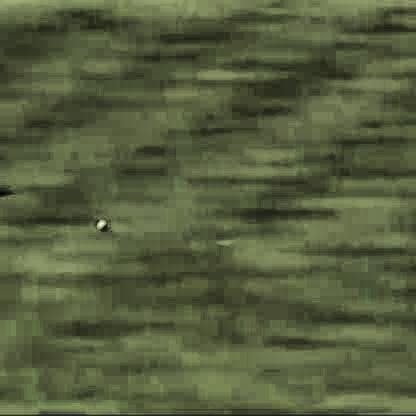golfball: (93, 218, 104, 228)
